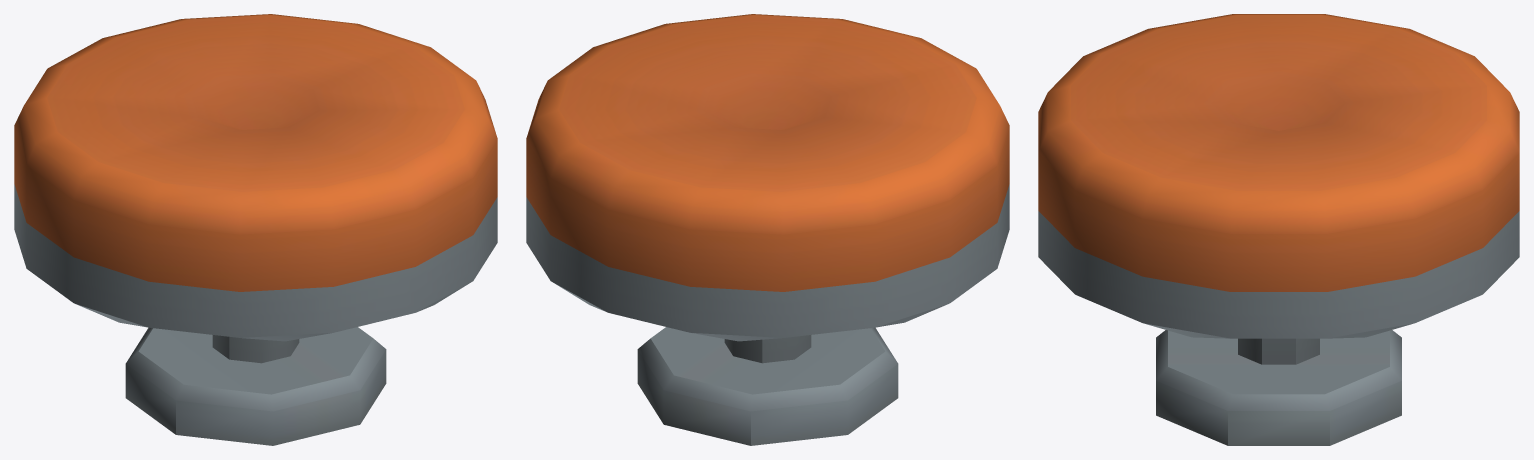
File: res-chair-stool.glb
3 views of the same model, side by side, from view 1: azimuth 30°, elevation 25°; view 2: azimuth 150°, elevation 25°; view 3: azimuth 270°, elevation 25° (orthographic).
Parts seen in each view (by area): view 1: chair_stool; view 2: chair_stool; view 3: chair_stool.
Boxes of the visible parts, <box> form: chair_stool: <box>14,14,497,445</box>; chair_stool: <box>526,14,1009,445</box>; chair_stool: <box>1038,14,1519,445</box>.
Size of the model in its own units: 0.75 by 0.5 by 0.75.
Materials: 1 (1 with a texture image).
